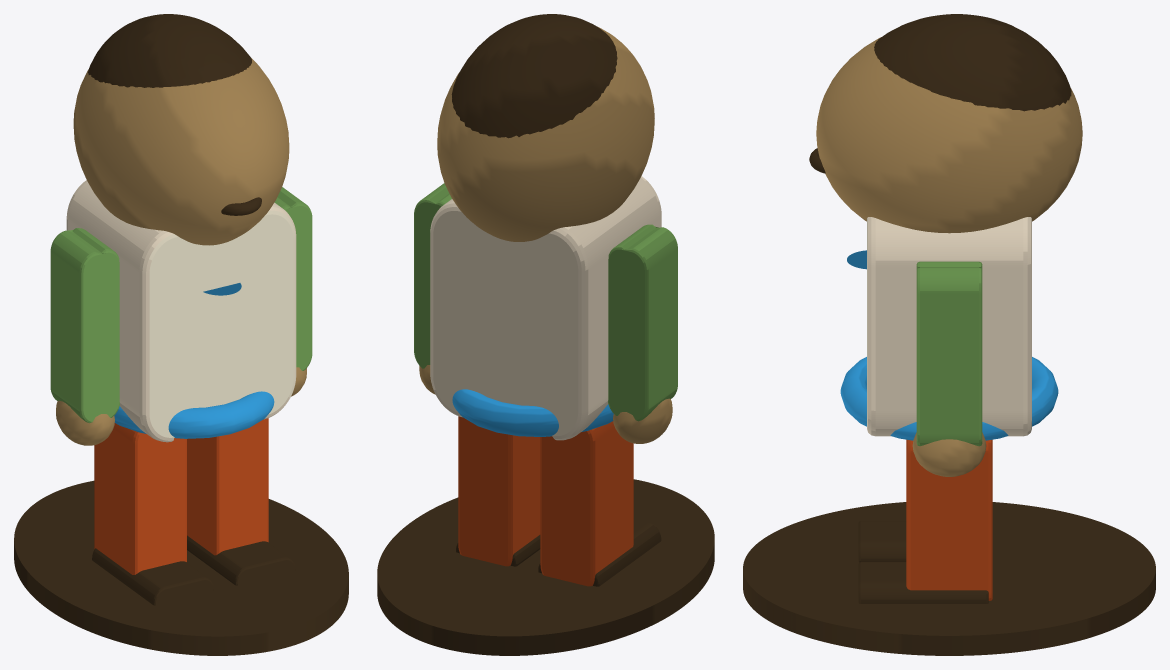
The model's file is 1136_左传_郑国刑鼎.glb.
The picture shows the model from 3 angles, left to right: view 1: azimuth 30°, elevation 25°; view 2: azimuth 150°, elevation 25°; view 3: azimuth 270°, elevation 25°; orthographic projection. The views are drawn at different scales.
Parts seen in each view (by area): view 1: card_1136; view 2: card_1136; view 3: card_1136.
Boxes of the visible parts, bbox=[...] form: card_1136: bbox=[14, 14, 348, 655]; card_1136: bbox=[377, 14, 714, 655]; card_1136: bbox=[743, 14, 1155, 655].
Size of the model in its own units: 0.5128 by 1 by 0.6605.
